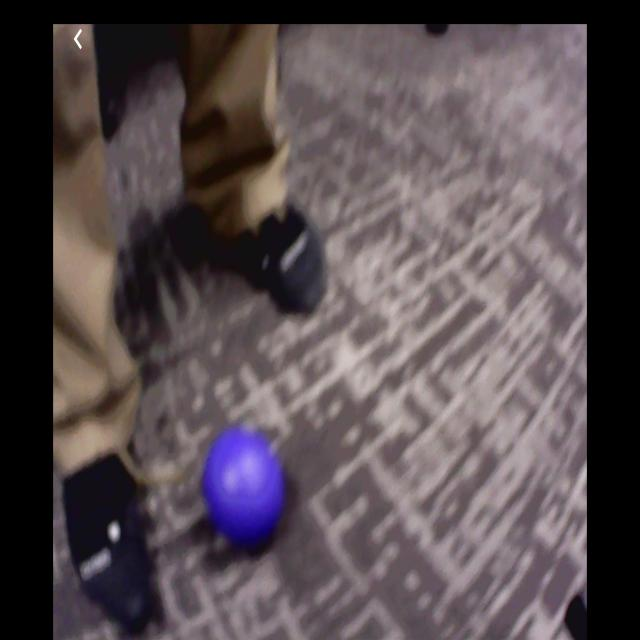ball: (202, 428, 289, 551)
